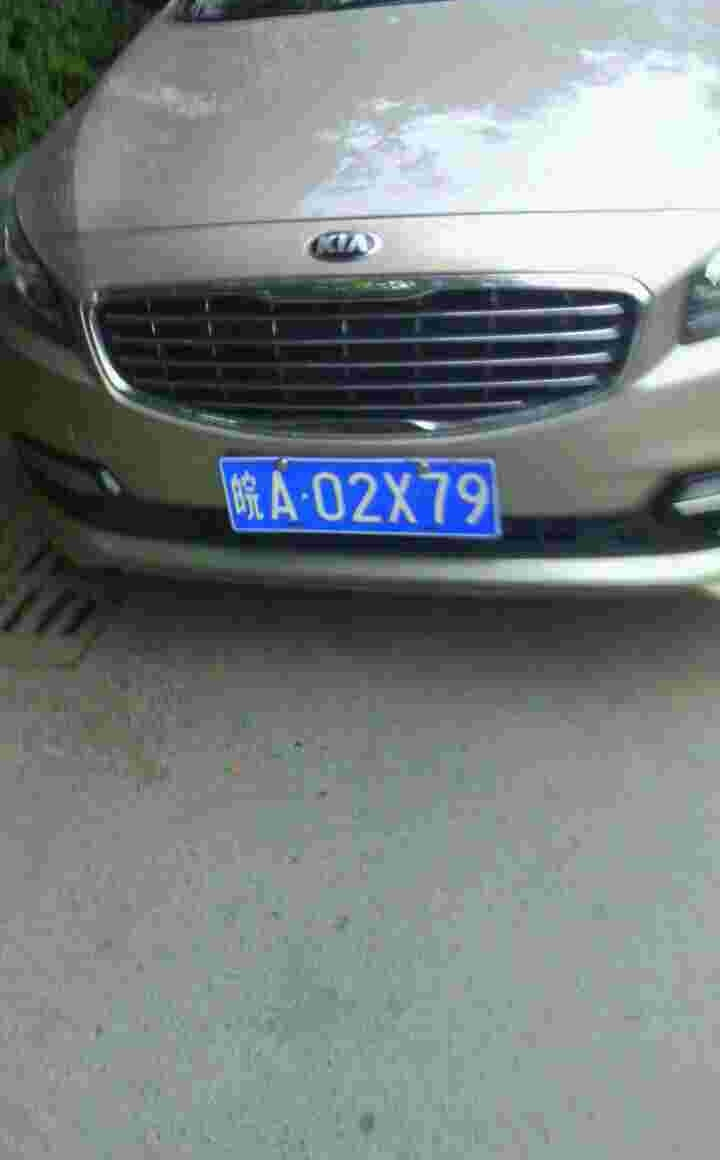car: (221, 457, 506, 537)
